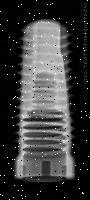Camlog: (11, 15, 76, 181)
